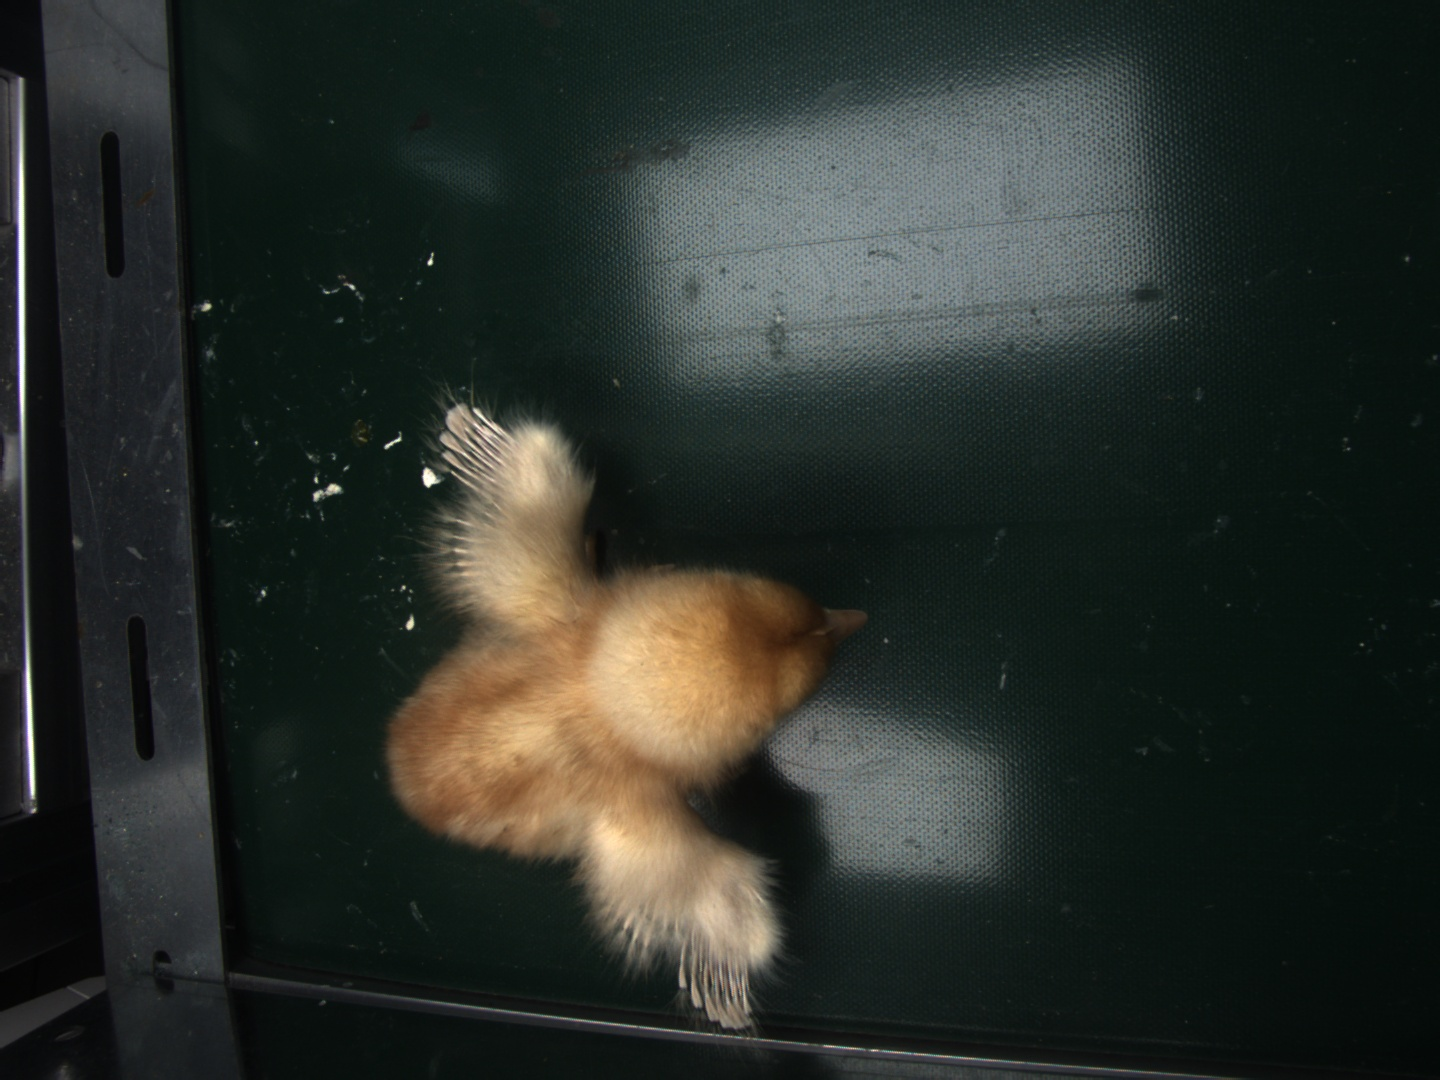female: (440, 400, 518, 498)
